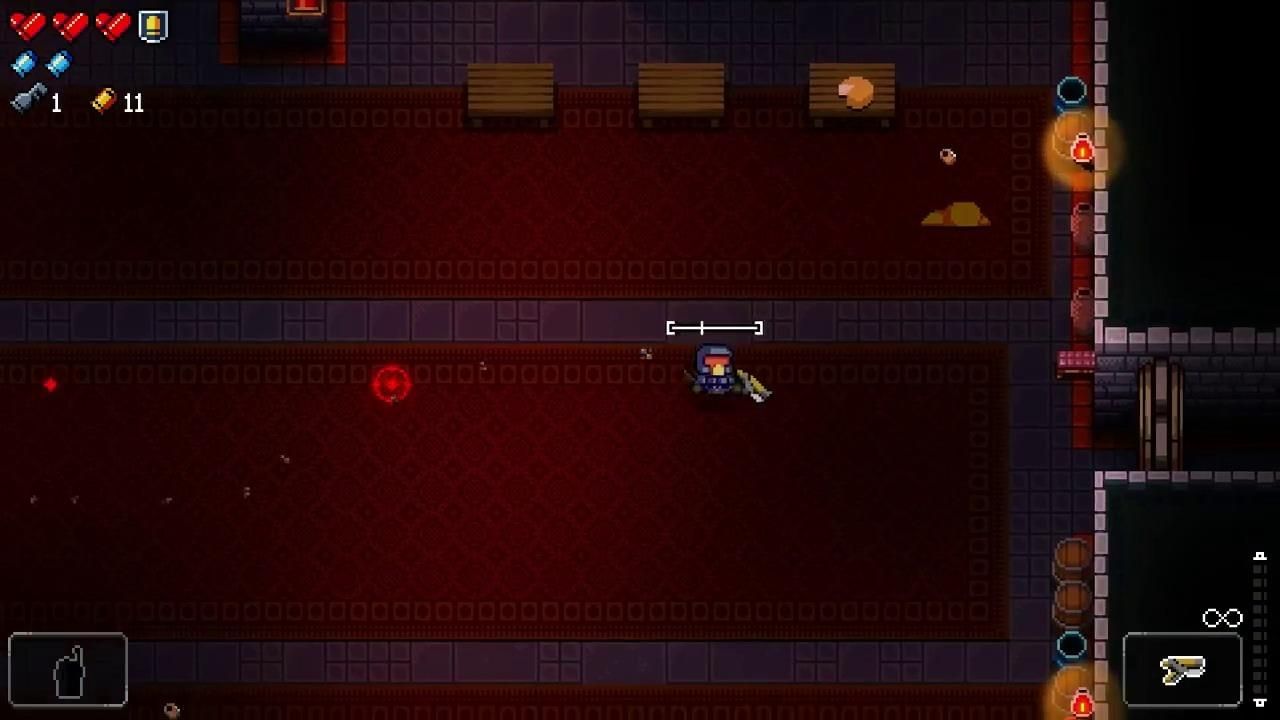dead_apprentice_gunjurer: (921, 199, 990, 228)
enemy_spawn: (372, 363, 411, 404)
locked_door: (1139, 354, 1182, 471)
player: (696, 346, 733, 396)
